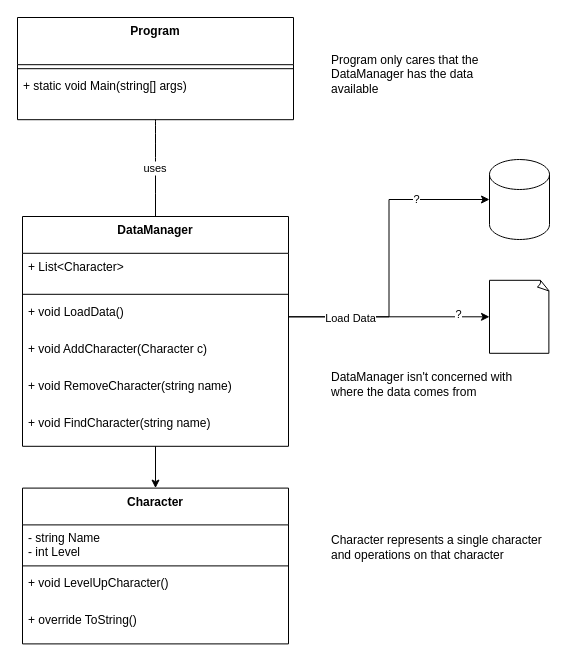
Some shapes in this 587 by 664 pixel diagram are drawn without their labels. The shapes that lost their labels are listed below. From the top down, each one's centre as x and y in pixels, then its label:
At pixel 519 199: "DB".
At pixel 519 316: "File".
